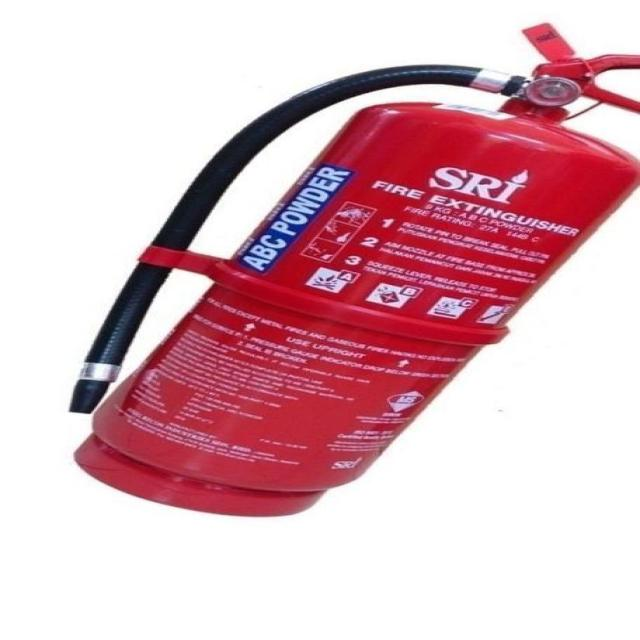fire_extinguisher: (61, 18, 638, 520)
